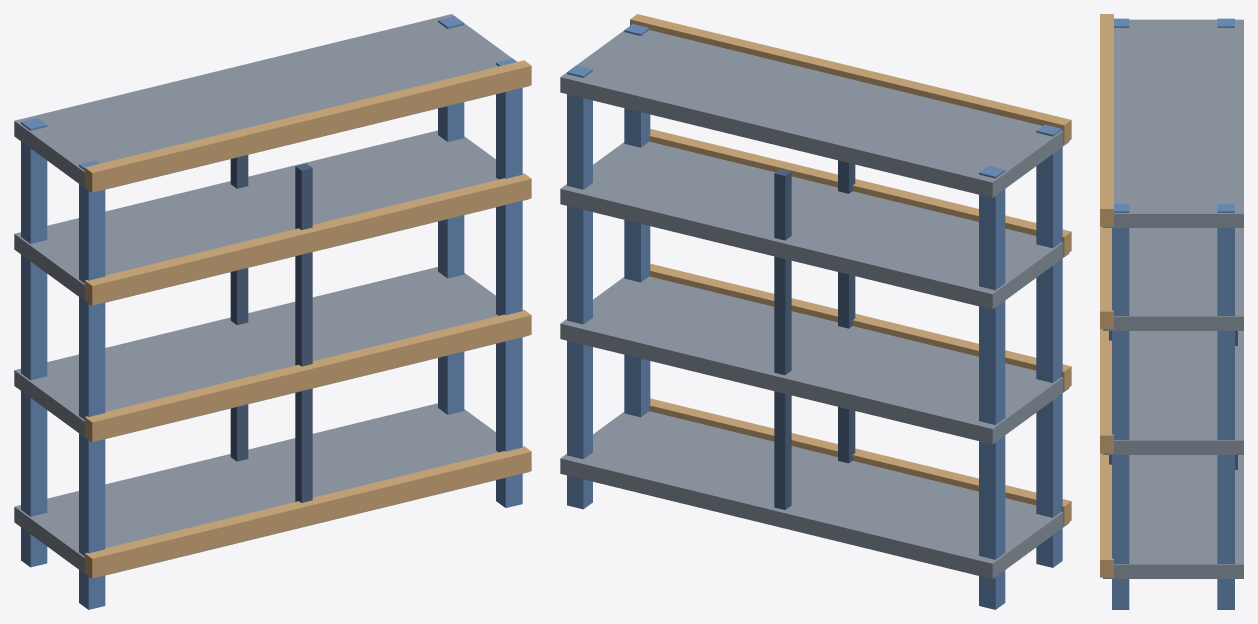
Rendered from warehouse_shelf.glb.
The picture shows the model from 3 angles, left to right: view 1: azimuth 30°, elevation 25°; view 2: azimuth 150°, elevation 25°; view 3: azimuth 270°, elevation 25°; orthographic projection. The views are drawn at different scales.
Visible parts, largest first — view 1: warehouse_shelf_010_Shelf_level, warehouse_shelf_008_Shelf_level, warehouse_shelf_006_Shelf_level, warehouse_shelf_004_Shelf_level, warehouse_shelf_011_Shelf_beam, warehouse_shelf_009_Shelf_beam, warehouse_shelf_005_Shelf_beam, warehouse_shelf_007_Shelf_beam, warehouse_shelf_000_Shelf_upright, warehouse_shelf_001_Shelf_upright, warehouse_shelf_003_Shelf_upright, warehouse_shelf_013_Back_brace (+2 smaller); view 2: warehouse_shelf_010_Shelf_level, warehouse_shelf_008_Shelf_level, warehouse_shelf_006_Shelf_level, warehouse_shelf_004_Shelf_level, warehouse_shelf_000_Shelf_upright, warehouse_shelf_001_Shelf_upright, warehouse_shelf_002_Shelf_upright, warehouse_shelf_011_Shelf_beam, warehouse_shelf_012_Back_brace, warehouse_shelf_009_Shelf_beam, warehouse_shelf_007_Shelf_beam, warehouse_shelf_005_Shelf_beam (+2 smaller); view 3: warehouse_shelf_010_Shelf_level, warehouse_shelf_004_Shelf_level, warehouse_shelf_006_Shelf_level, warehouse_shelf_008_Shelf_level, warehouse_shelf_002_Shelf_upright, warehouse_shelf_003_Shelf_upright, warehouse_shelf_011_Shelf_beam, warehouse_shelf_005_Shelf_beam, warehouse_shelf_007_Shelf_beam, warehouse_shelf_009_Shelf_beam.
Boxes of the visible parts, x1,y1,x2,y2 form: warehouse_shelf_010_Shelf_level: (14,14,528,192); warehouse_shelf_008_Shelf_level: (14,130,528,305); warehouse_shelf_006_Shelf_level: (14,267,528,442); warehouse_shelf_004_Shelf_level: (14,403,528,578); warehouse_shelf_011_Shelf_beam: (84,60,531,192); warehouse_shelf_009_Shelf_beam: (84,173,531,305); warehouse_shelf_005_Shelf_beam: (84,446,531,578); warehouse_shelf_007_Shelf_beam: (84,310,531,441); warehouse_shelf_000_Shelf_upright: (21,118,47,567); warehouse_shelf_001_Shelf_upright: (79,160,105,609); warehouse_shelf_003_Shelf_upright: (496,58,522,507); warehouse_shelf_013_Back_brace: (295,163,312,502); warehouse_shelf_010_Shelf_level: (560,30,1069,197); warehouse_shelf_008_Shelf_level: (560,141,1069,309); warehouse_shelf_006_Shelf_level: (560,276,1069,444); warehouse_shelf_004_Shelf_level: (560,411,1069,579); warehouse_shelf_000_Shelf_upright: (979,165,1005,609); warehouse_shelf_001_Shelf_upright: (1036,124,1062,567); warehouse_shelf_002_Shelf_upright: (567,65,592,509); warehouse_shelf_011_Shelf_beam: (630,14,1071,144); warehouse_shelf_012_Back_brace: (774,168,791,509); warehouse_shelf_009_Shelf_beam: (649,129,1071,255); warehouse_shelf_007_Shelf_beam: (649,263,1071,390); warehouse_shelf_005_Shelf_beam: (649,398,1071,525); warehouse_shelf_010_Shelf_level: (1103,19,1243,227); warehouse_shelf_004_Shelf_level: (1103,455,1243,578); warehouse_shelf_006_Shelf_level: (1103,331,1243,454); warehouse_shelf_008_Shelf_level: (1103,228,1243,330); warehouse_shelf_002_Shelf_upright: (1217,204,1234,609); warehouse_shelf_003_Shelf_upright: (1112,204,1129,609); warehouse_shelf_011_Shelf_beam: (1100,14,1113,226); warehouse_shelf_005_Shelf_beam: (1100,453,1113,577); warehouse_shelf_007_Shelf_beam: (1100,329,1113,453); warehouse_shelf_009_Shelf_beam: (1100,226,1113,329).
Bounding box in the file's own units: 2.36 × 2.27 × 0.735.
